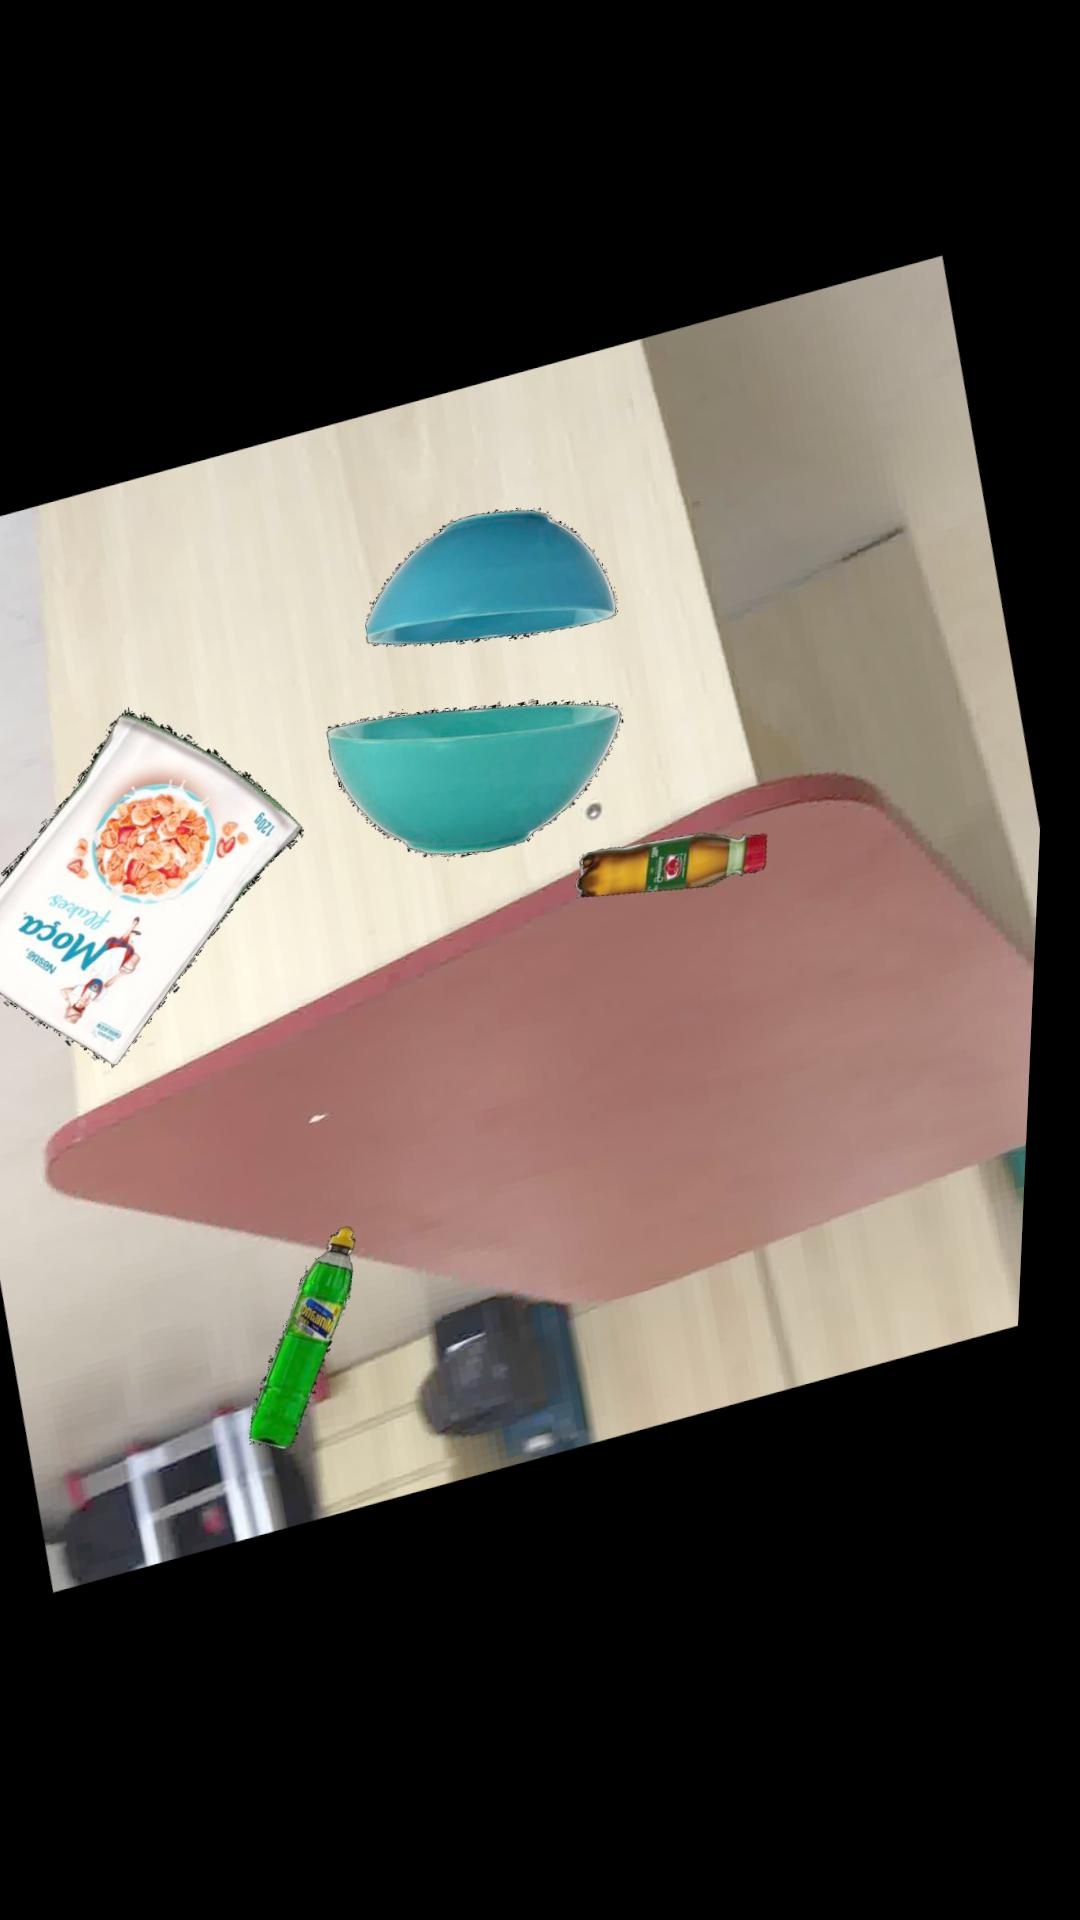bowl: (331, 707, 625, 864), (368, 516, 620, 651)
cleaner: (260, 1232, 364, 1453)
corn flakes: (0, 708, 309, 1069)
guarana: (580, 843, 773, 906)
